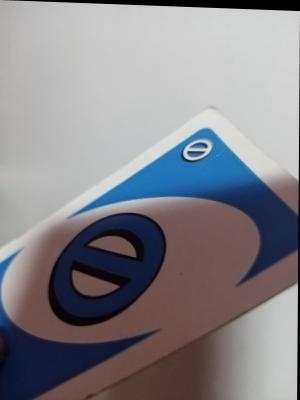blue: (19, 156, 291, 358)
skip: (177, 133, 215, 167)
